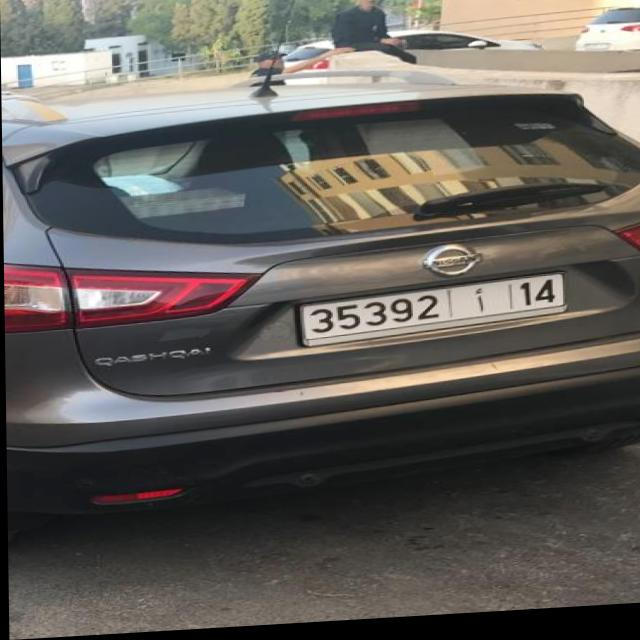License-Plate: (299, 282, 562, 350)
